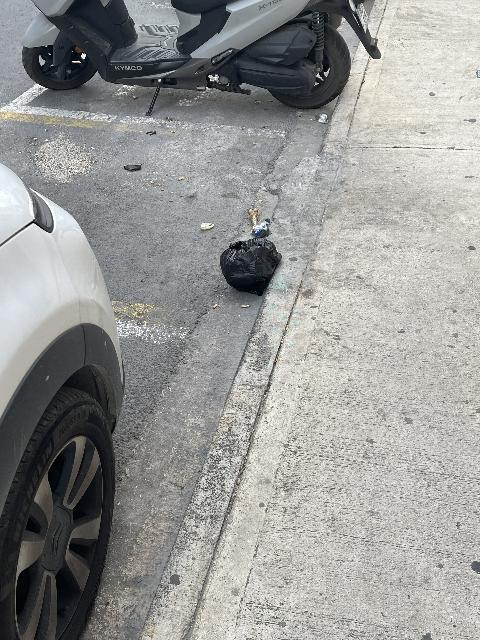Mixed -Black-: (220, 237, 282, 295)
Other: (248, 208, 270, 238)
